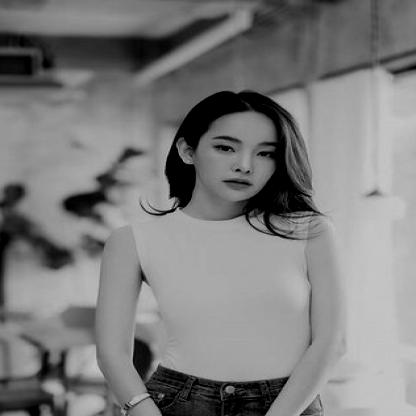jacket: (130, 207, 316, 382)
